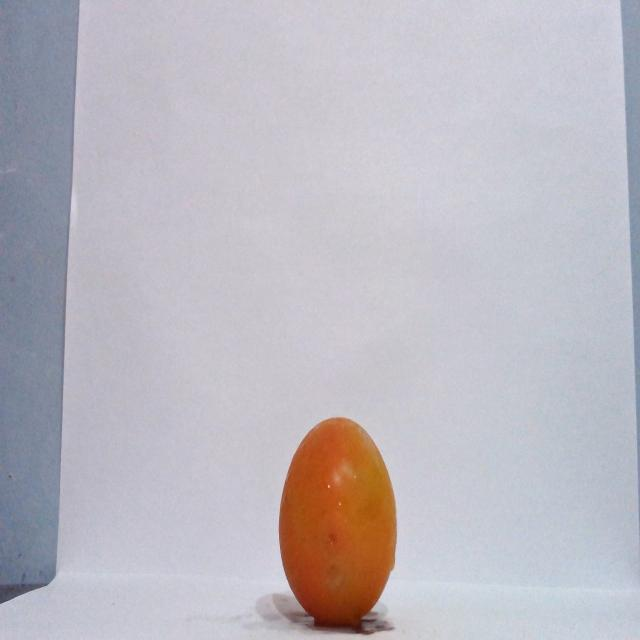Red: (277, 415, 398, 627)
